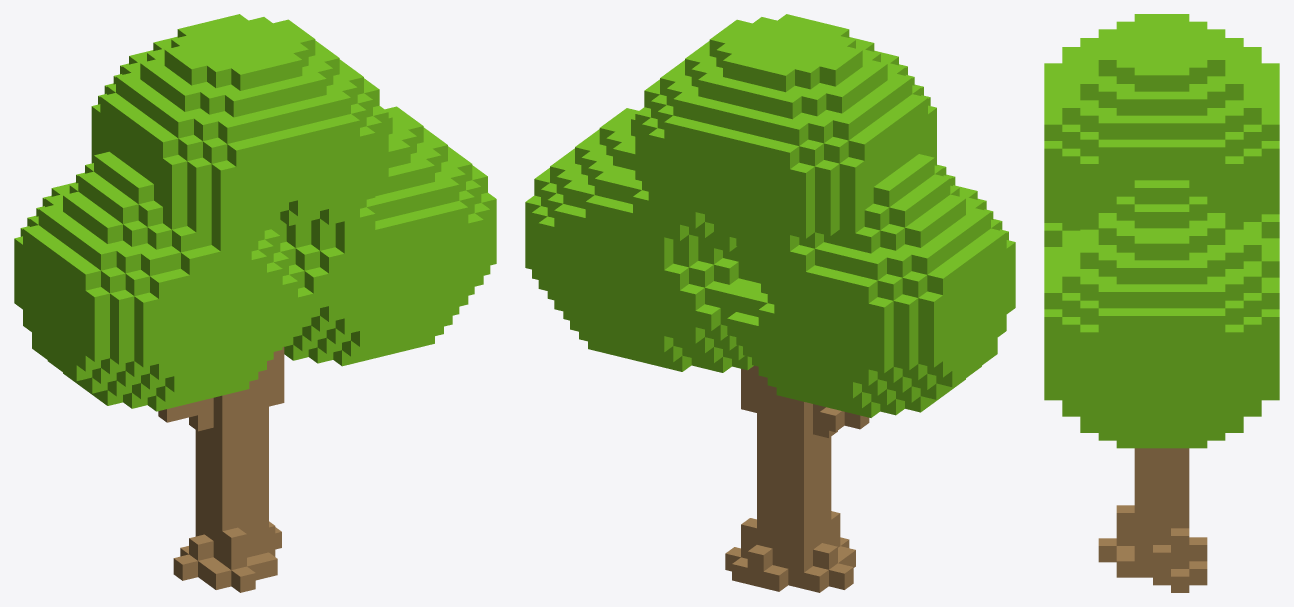
The model's file is Tree_2.obj.
The picture shows the model from 3 angles, left to right: view 1: azimuth 30°, elevation 25°; view 2: azimuth 150°, elevation 25°; view 3: azimuth 270°, elevation 25°; orthographic projection.
Size of the model in its own units: 2.6 by 3.2 by 1.3.
Materials: 1 (1 with a texture image).
